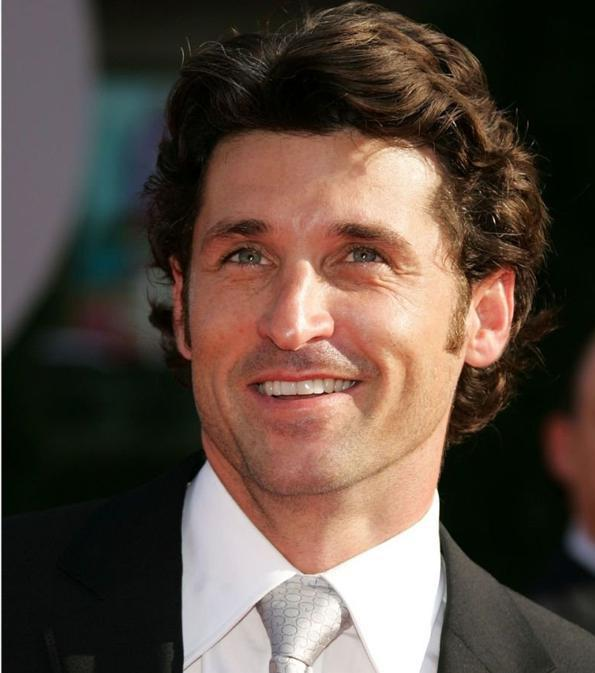Sober: (196, 130, 450, 489)
